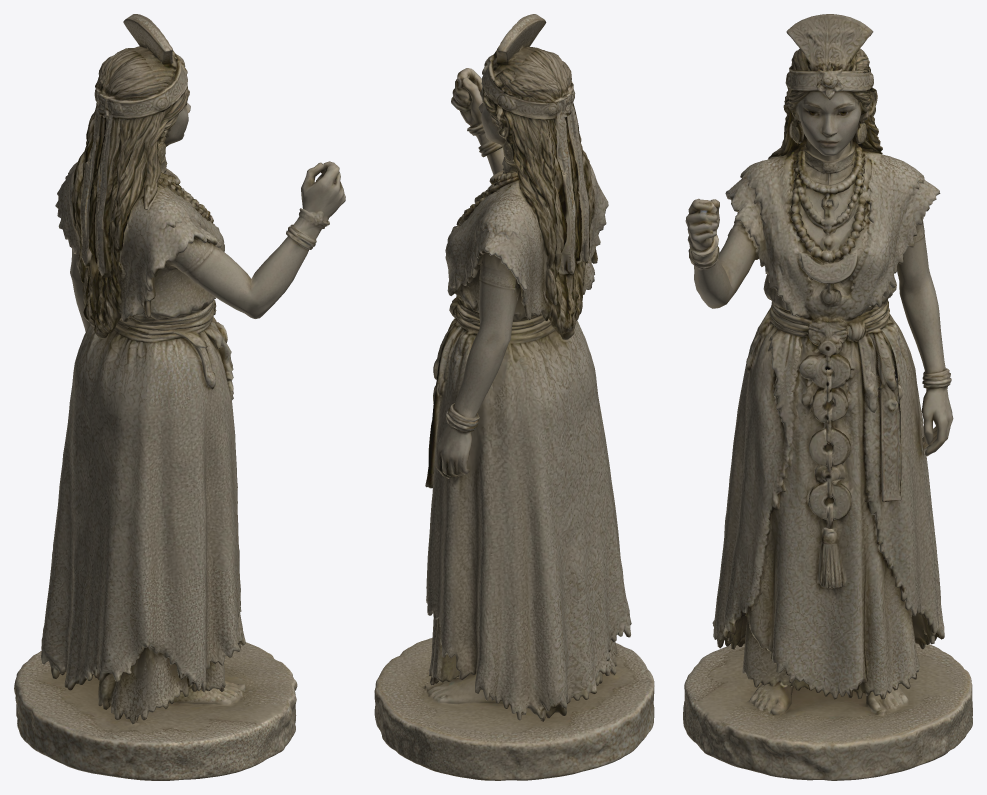
File: ancient_statue_3d_model_2.fbx
3 views of the same model, side by side, from view 1: azimuth 30°, elevation 25°; view 2: azimuth 150°, elevation 25°; view 3: azimuth 270°, elevation 25° (orthographic).
Parts seen in each view (by area): view 1: tripo_node_1144e7e7; view 2: tripo_node_1144e7e7; view 3: tripo_node_1144e7e7.
Boxes of the visible parts, x1,y1,x2,y2 form: tripo_node_1144e7e7: [14, 14, 345, 780]; tripo_node_1144e7e7: [374, 14, 654, 780]; tripo_node_1144e7e7: [683, 14, 972, 780].
Bounding box in the file's own units: 0.3547 × 0.9788 × 0.3647.
